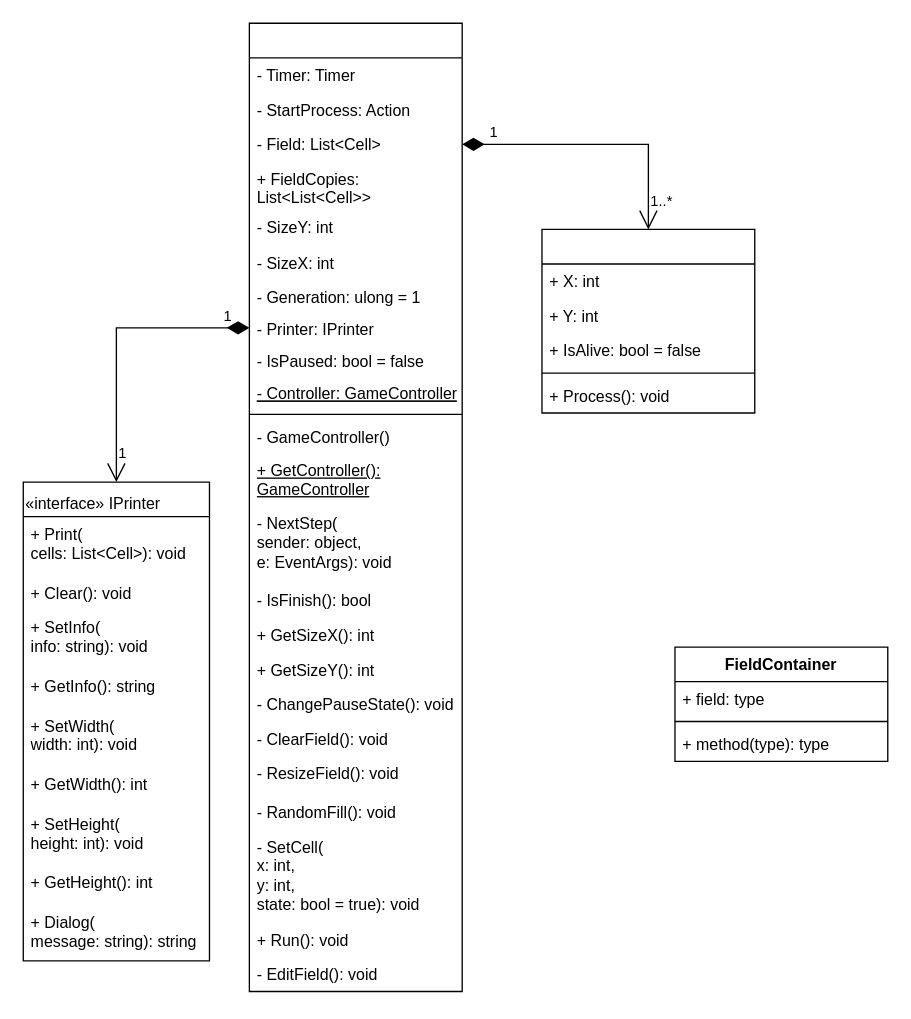
Some shapes in this 911 by 1019 pixel diagram are drawn without their labels. Here are the shapes that lost their labels. From the top down, the box of each, then its label:
(541, 228, 755, 413): Cell
(248, 22, 462, 992): GameController {1}
